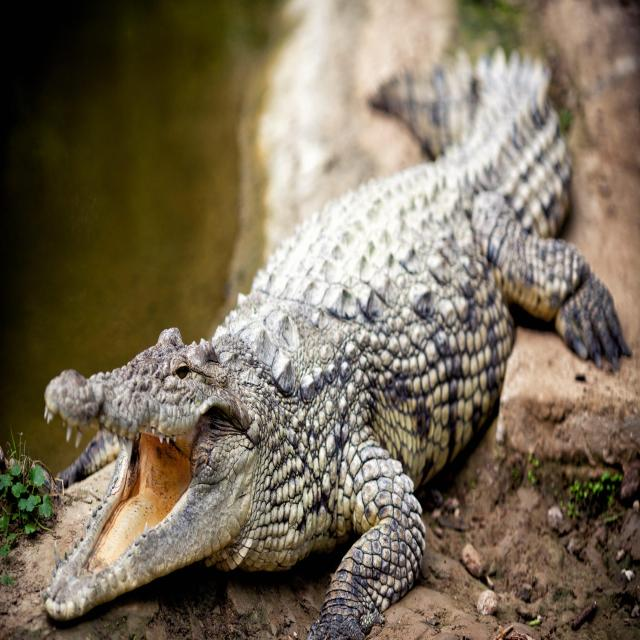crocodile: (15, 18, 640, 640)
